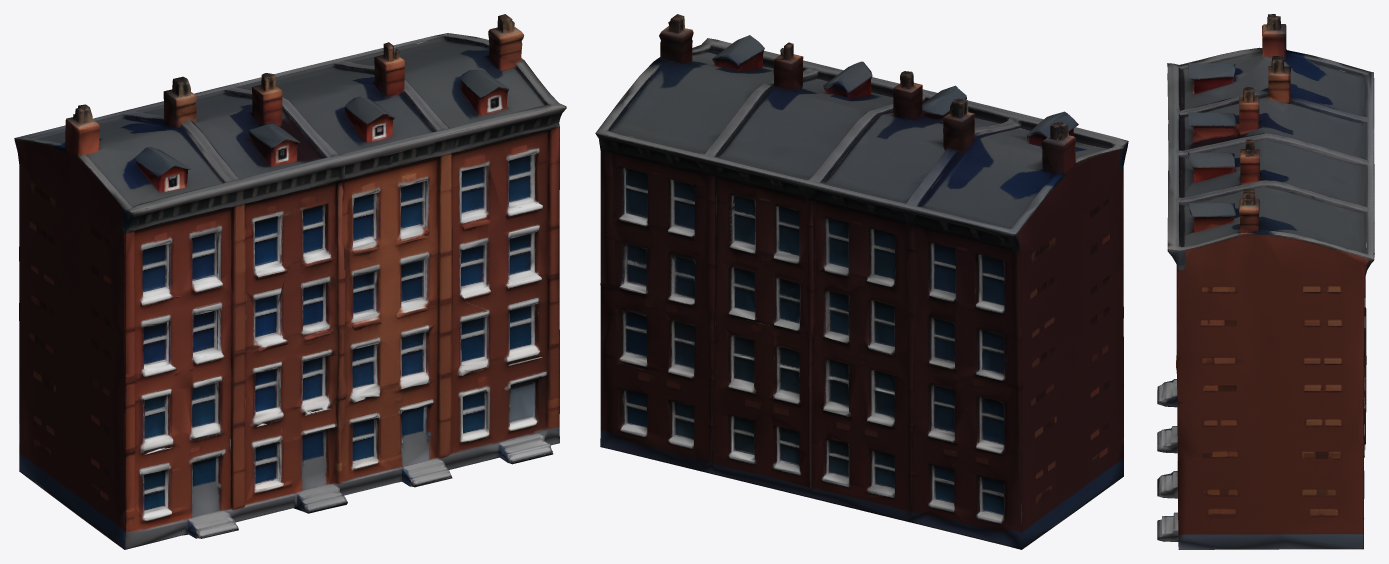
The model's file is tenement_brick.glb.
3 renders of one model, left to right at view 1: azimuth 30°, elevation 25°; view 2: azimuth 150°, elevation 25°; view 3: azimuth 270°, elevation 25°, orthographic. The views are drawn at different scales.
Parts seen in each view (by area): view 1: world; view 2: world; view 3: world.
Part boxes in pixels (x1,y1,x2,y2): world: [14, 14, 566, 549]; world: [595, 14, 1128, 549]; world: [1157, 14, 1374, 549].
Bounding box in the file's own units: 0.9889 × 0.8691 × 0.4848.
Materials: 1 (1 with a texture image).
